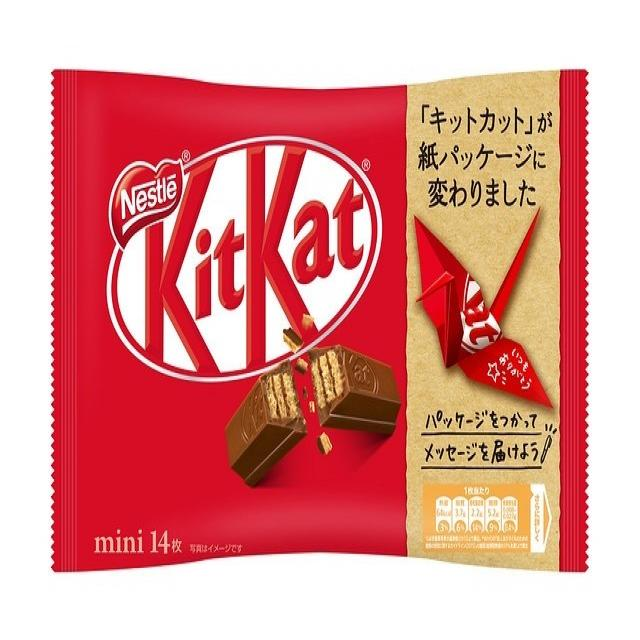kitkat: (53, 67, 588, 575)
